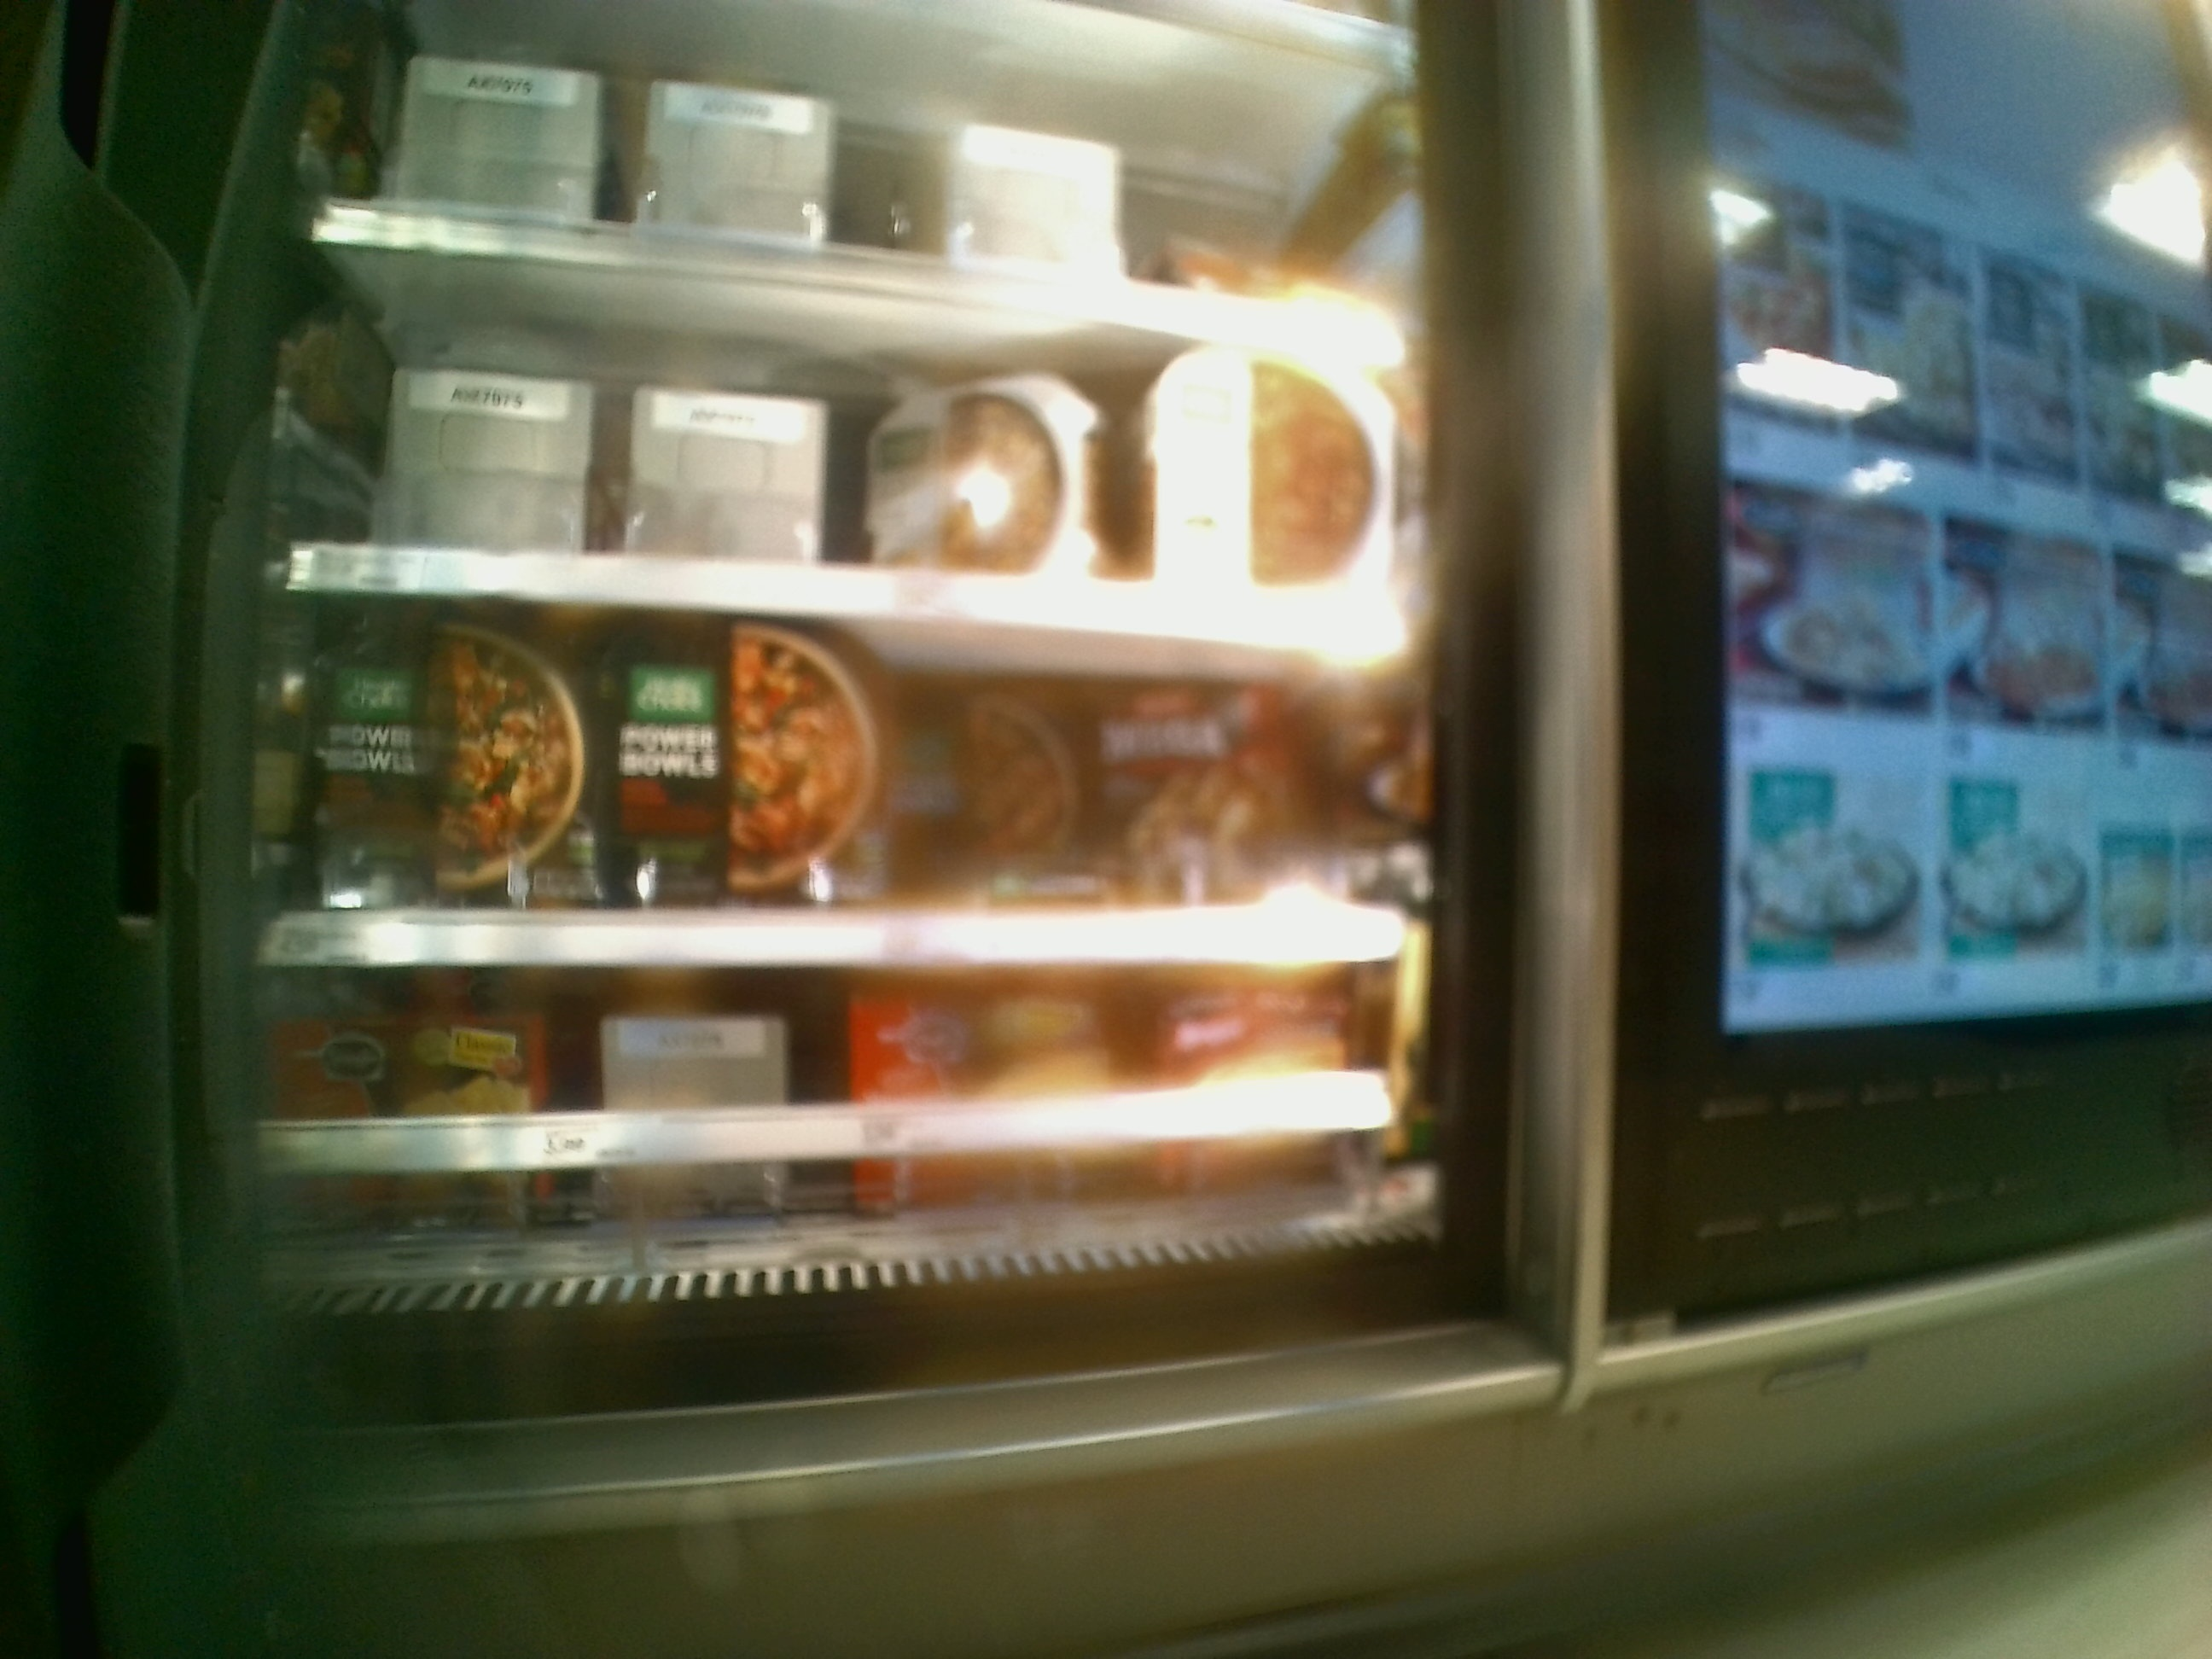shelf: (258, 967, 1439, 1354), (263, 586, 1404, 962)
